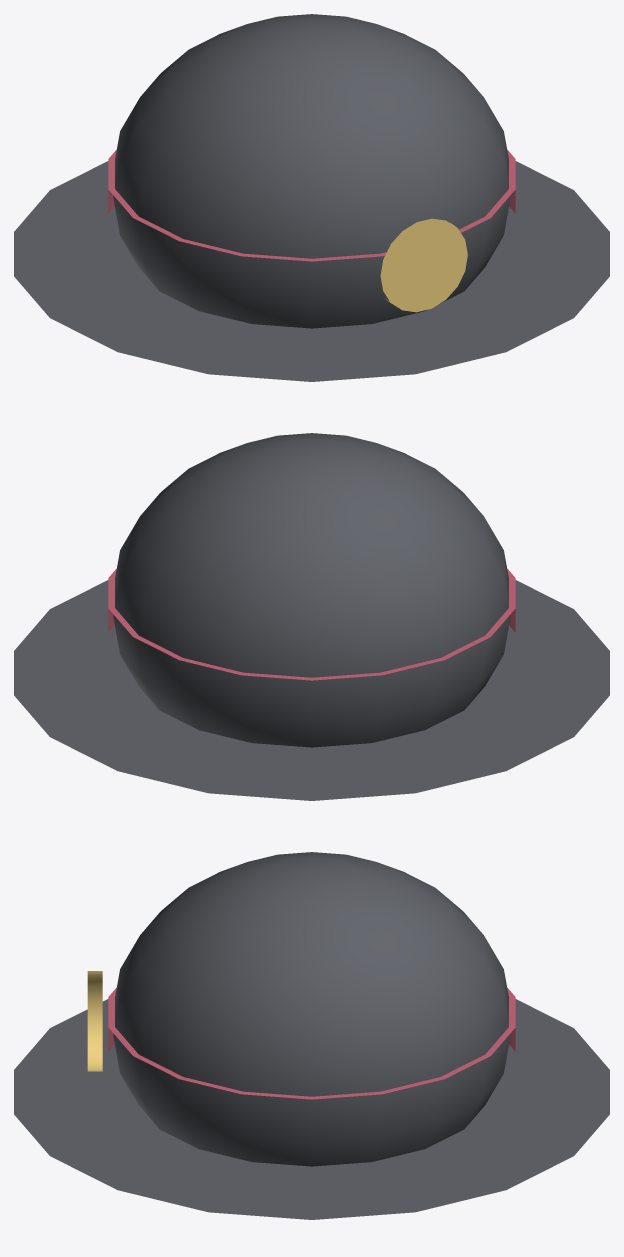
Rendered from banker-bowler.glb.
The picture shows the model from 3 angles, top to bottom: view 1: azimuth 30°, elevation 25°; view 2: azimuth 150°, elevation 25°; view 3: azimuth 270°, elevation 25°; orthographic projection.
Visible parts, largest first — view 1: banker-bowler; view 2: banker-bowler; view 3: banker-bowler.
Boxes of the visible parts, left/top/right/bottom form: banker-bowler: left=14, top=14, right=609, bottom=381; banker-bowler: left=14, top=433, right=609, bottom=800; banker-bowler: left=14, top=852, right=609, bottom=1219.
Bounding box in the file's own units: 0.6 × 0.32 × 0.5909.
